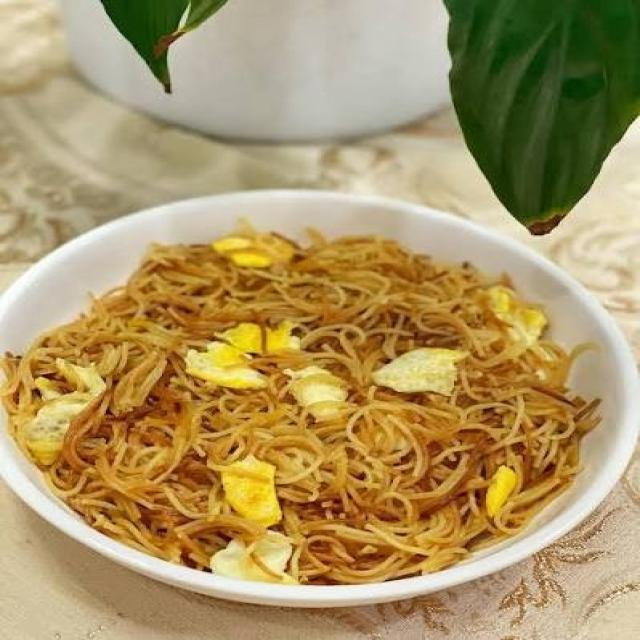Balaleet: (26, 264, 576, 553)
